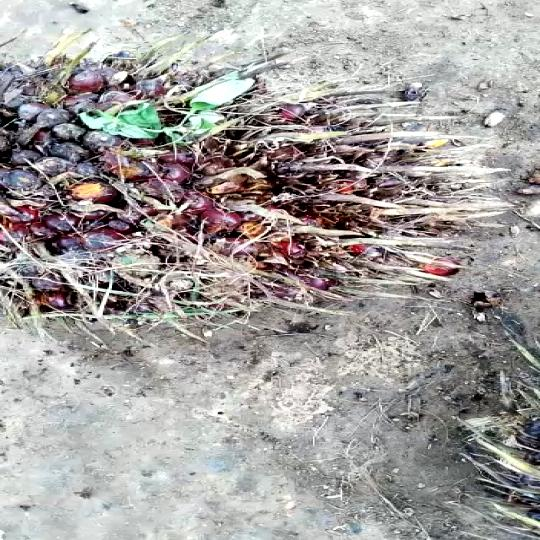masak: (0, 35, 500, 331)
